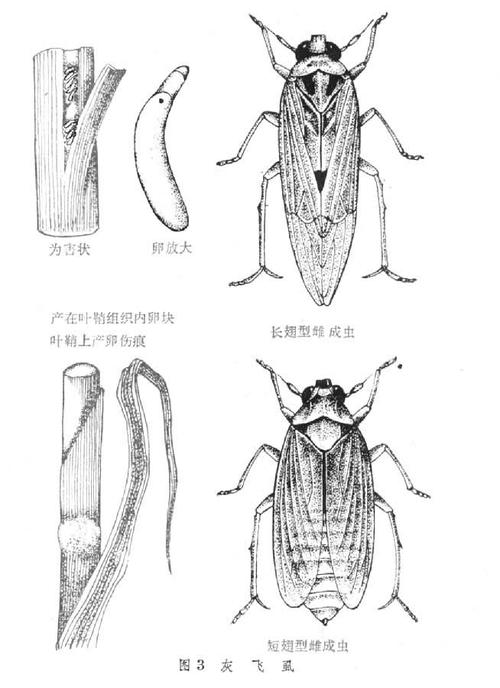Delphacidae: (215, 13, 424, 306), (216, 355, 431, 626)
